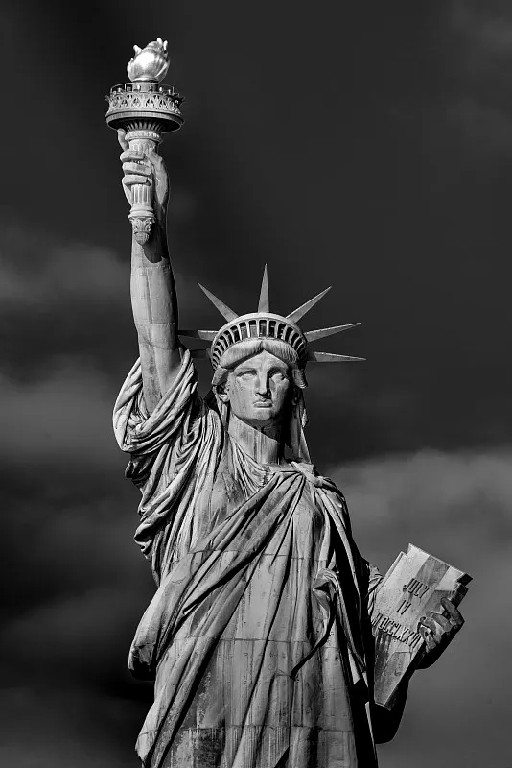SL: (104, 37, 474, 768)
